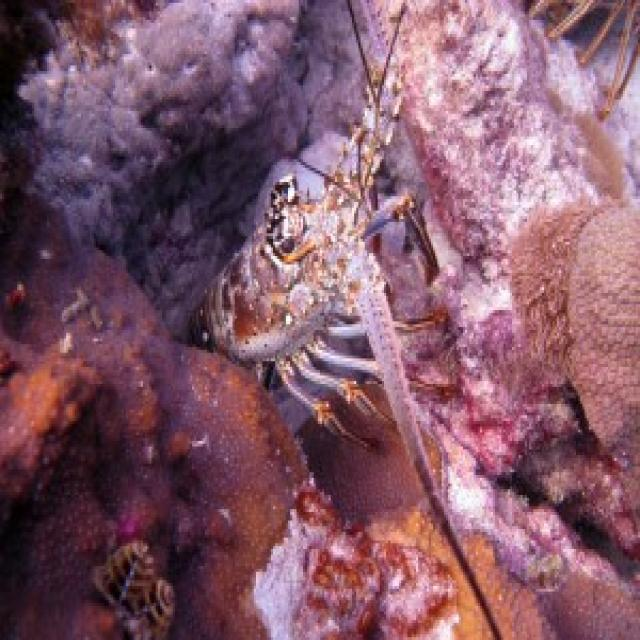lobsters: (182, 32, 544, 607)
